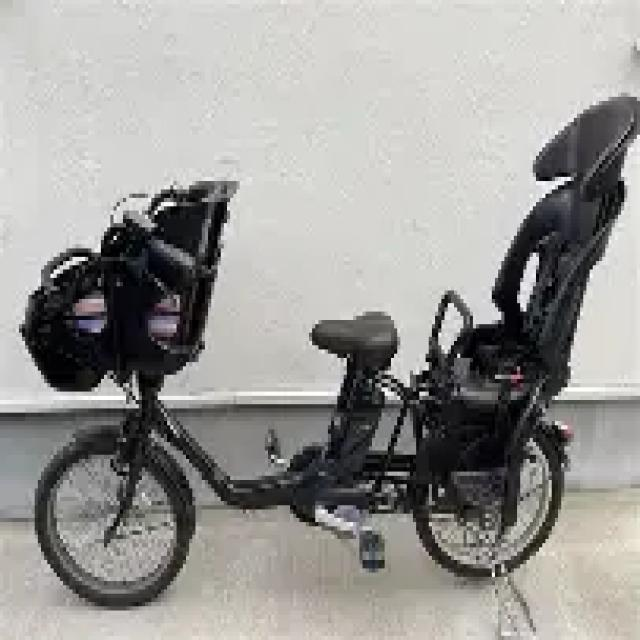battery: (330, 386, 387, 481)
childseat: (421, 88, 639, 520), (54, 176, 236, 381)
